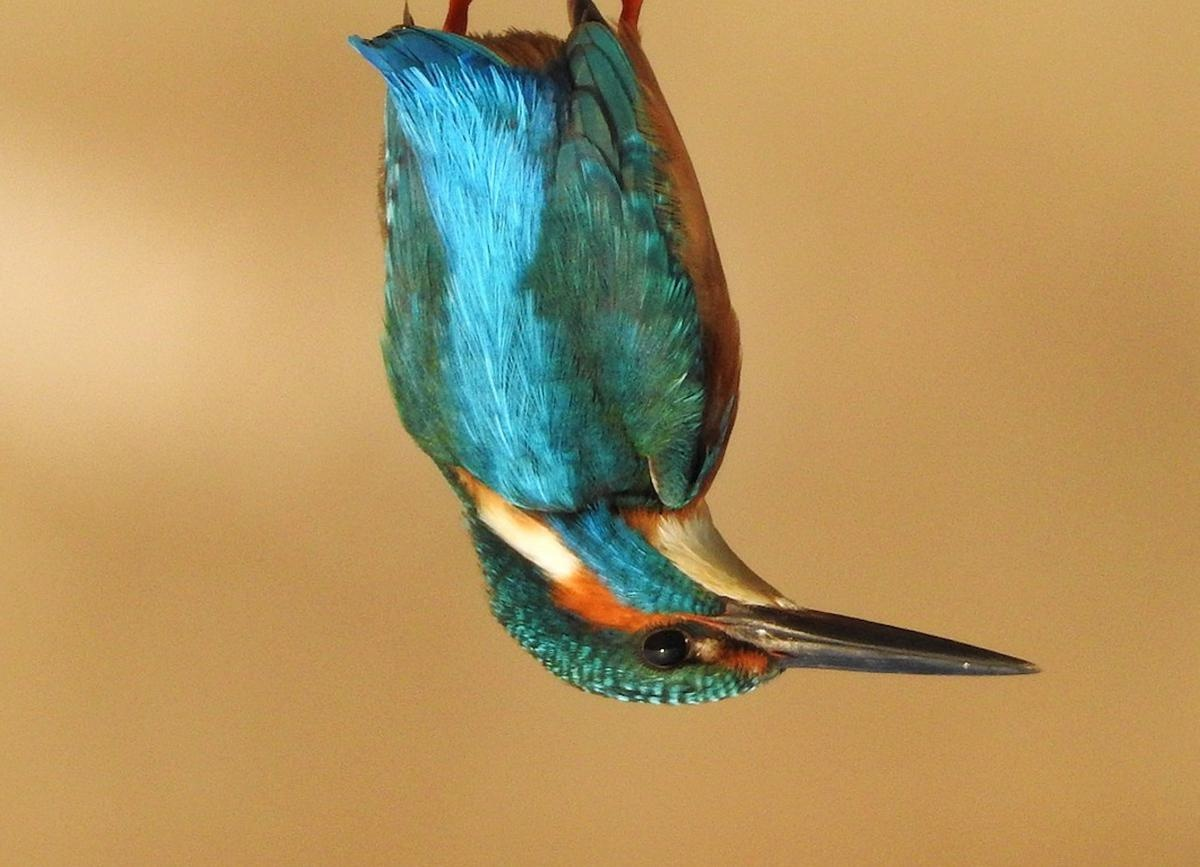kingfisher: (349, 1, 1069, 737)
